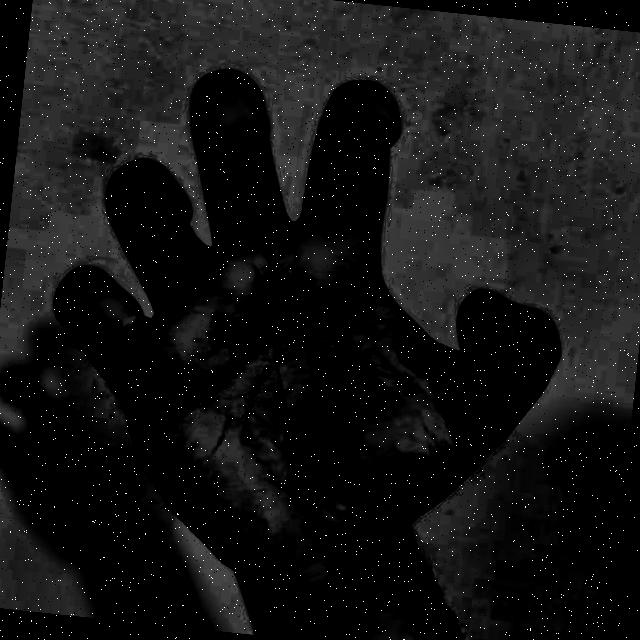Ja: (7, 3, 607, 640)
